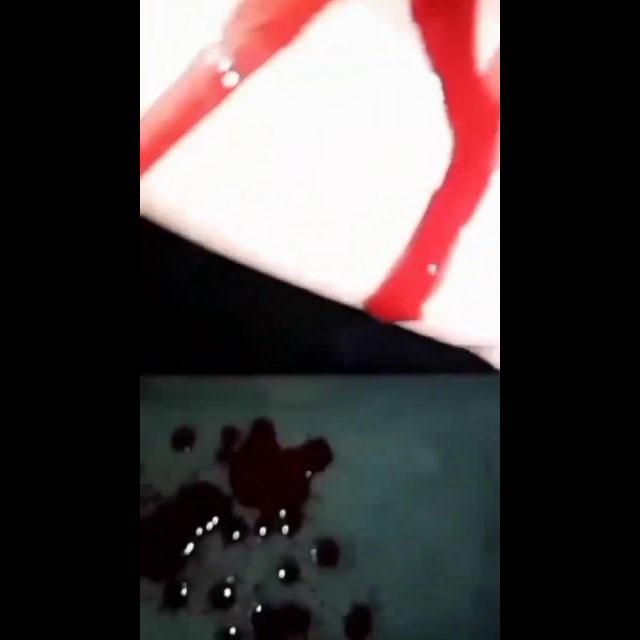blood: (368, 0, 500, 322), (140, 0, 334, 176), (140, 481, 250, 610), (212, 420, 332, 538), (274, 537, 342, 590), (212, 607, 311, 640), (170, 424, 208, 457), (206, 577, 237, 615), (343, 607, 371, 640)
